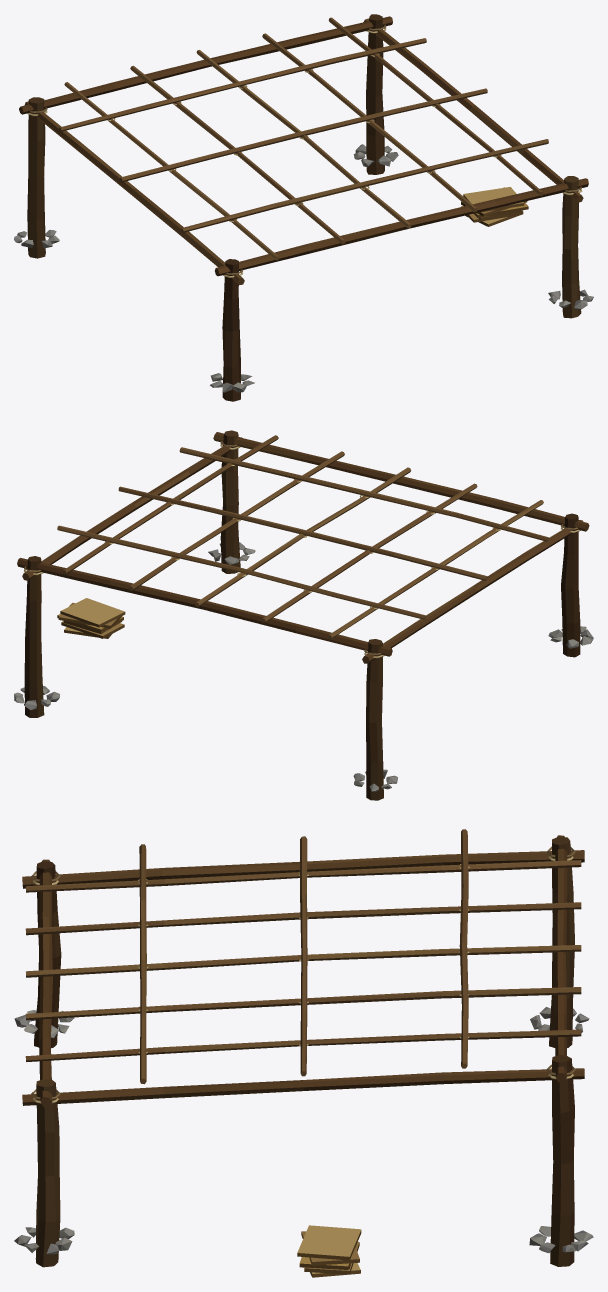
Rendered from covered_depot_2_telaio.glb.
The picture shows the model from 3 angles, top to bottom: view 1: azimuth 30°, elevation 25°; view 2: azimuth 150°, elevation 25°; view 3: azimuth 270°, elevation 25°; orthographic projection. The views are drawn at different scales.
Visible parts, largest first — view 1: covered_depot_2_telaio; view 2: covered_depot_2_telaio; view 3: covered_depot_2_telaio.
Part boxes in pixels (x1,y1,x2,y2): covered_depot_2_telaio: (14,14,593,401); covered_depot_2_telaio: (14,430,593,800); covered_depot_2_telaio: (14,829,593,1277).
Bounding box in the file's own units: 9.49 × 3.46 × 8.67.
